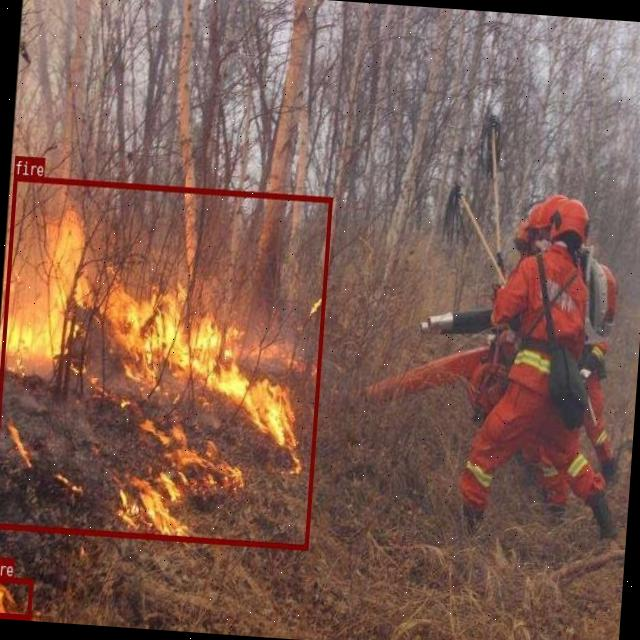fire: (0, 174, 331, 548), (0, 575, 32, 618)
